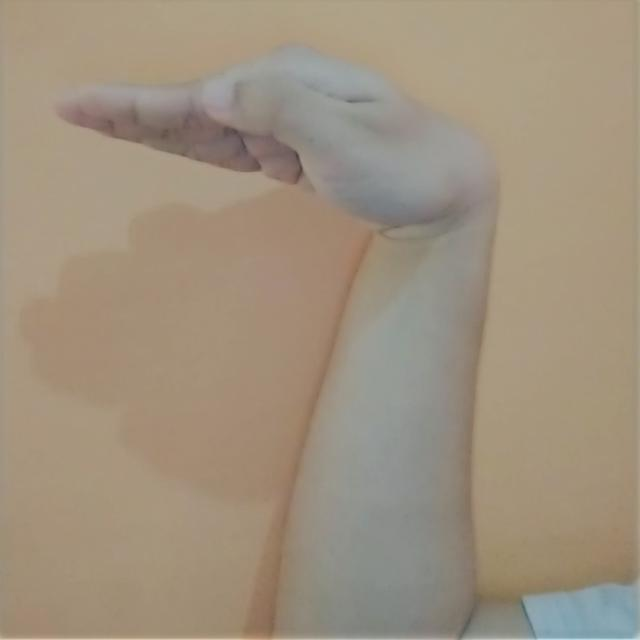Z: (48, 28, 512, 640)
